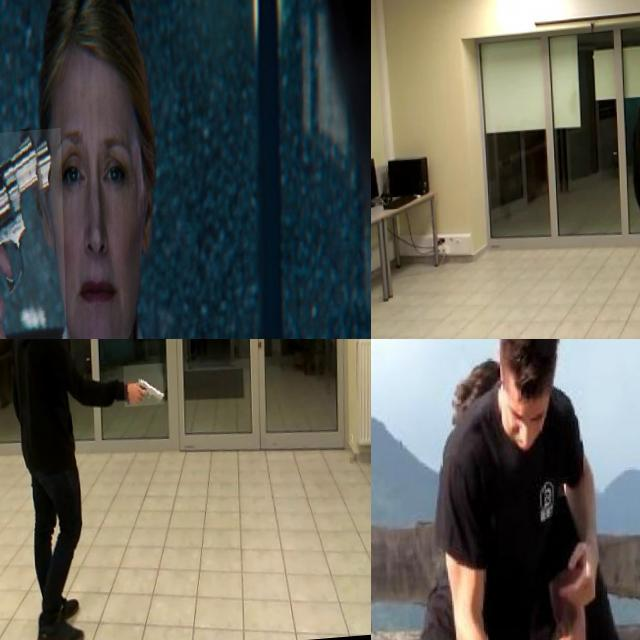gun-knife-thesis - v11 Yolov5 augmented: (0, 132, 67, 339), (121, 369, 161, 412)
